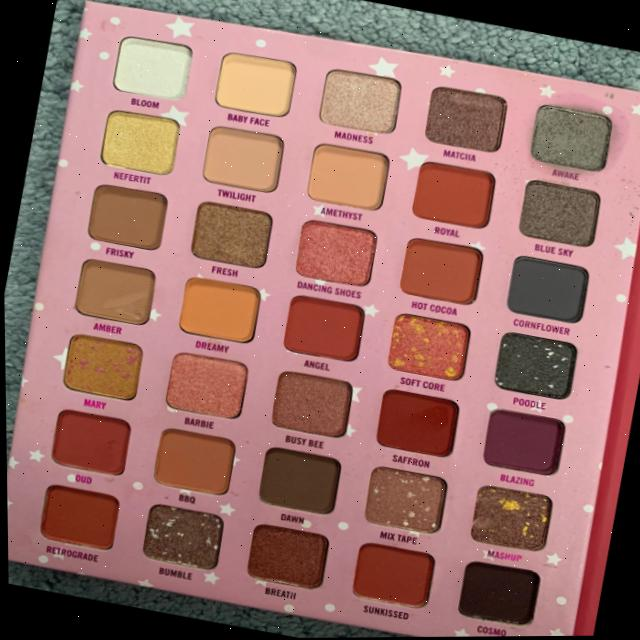eye shade: (2, 12, 640, 640)
